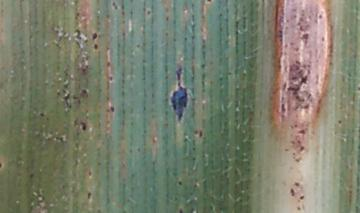tarspot: (168, 62, 190, 127), (193, 126, 204, 141), (77, 86, 91, 97), (76, 120, 89, 131), (84, 188, 94, 202), (107, 104, 118, 116), (333, 117, 346, 127), (88, 43, 102, 52), (174, 177, 185, 188), (36, 109, 47, 119), (89, 30, 100, 40), (287, 186, 297, 197), (175, 204, 186, 213), (293, 179, 302, 188), (298, 194, 307, 202)
